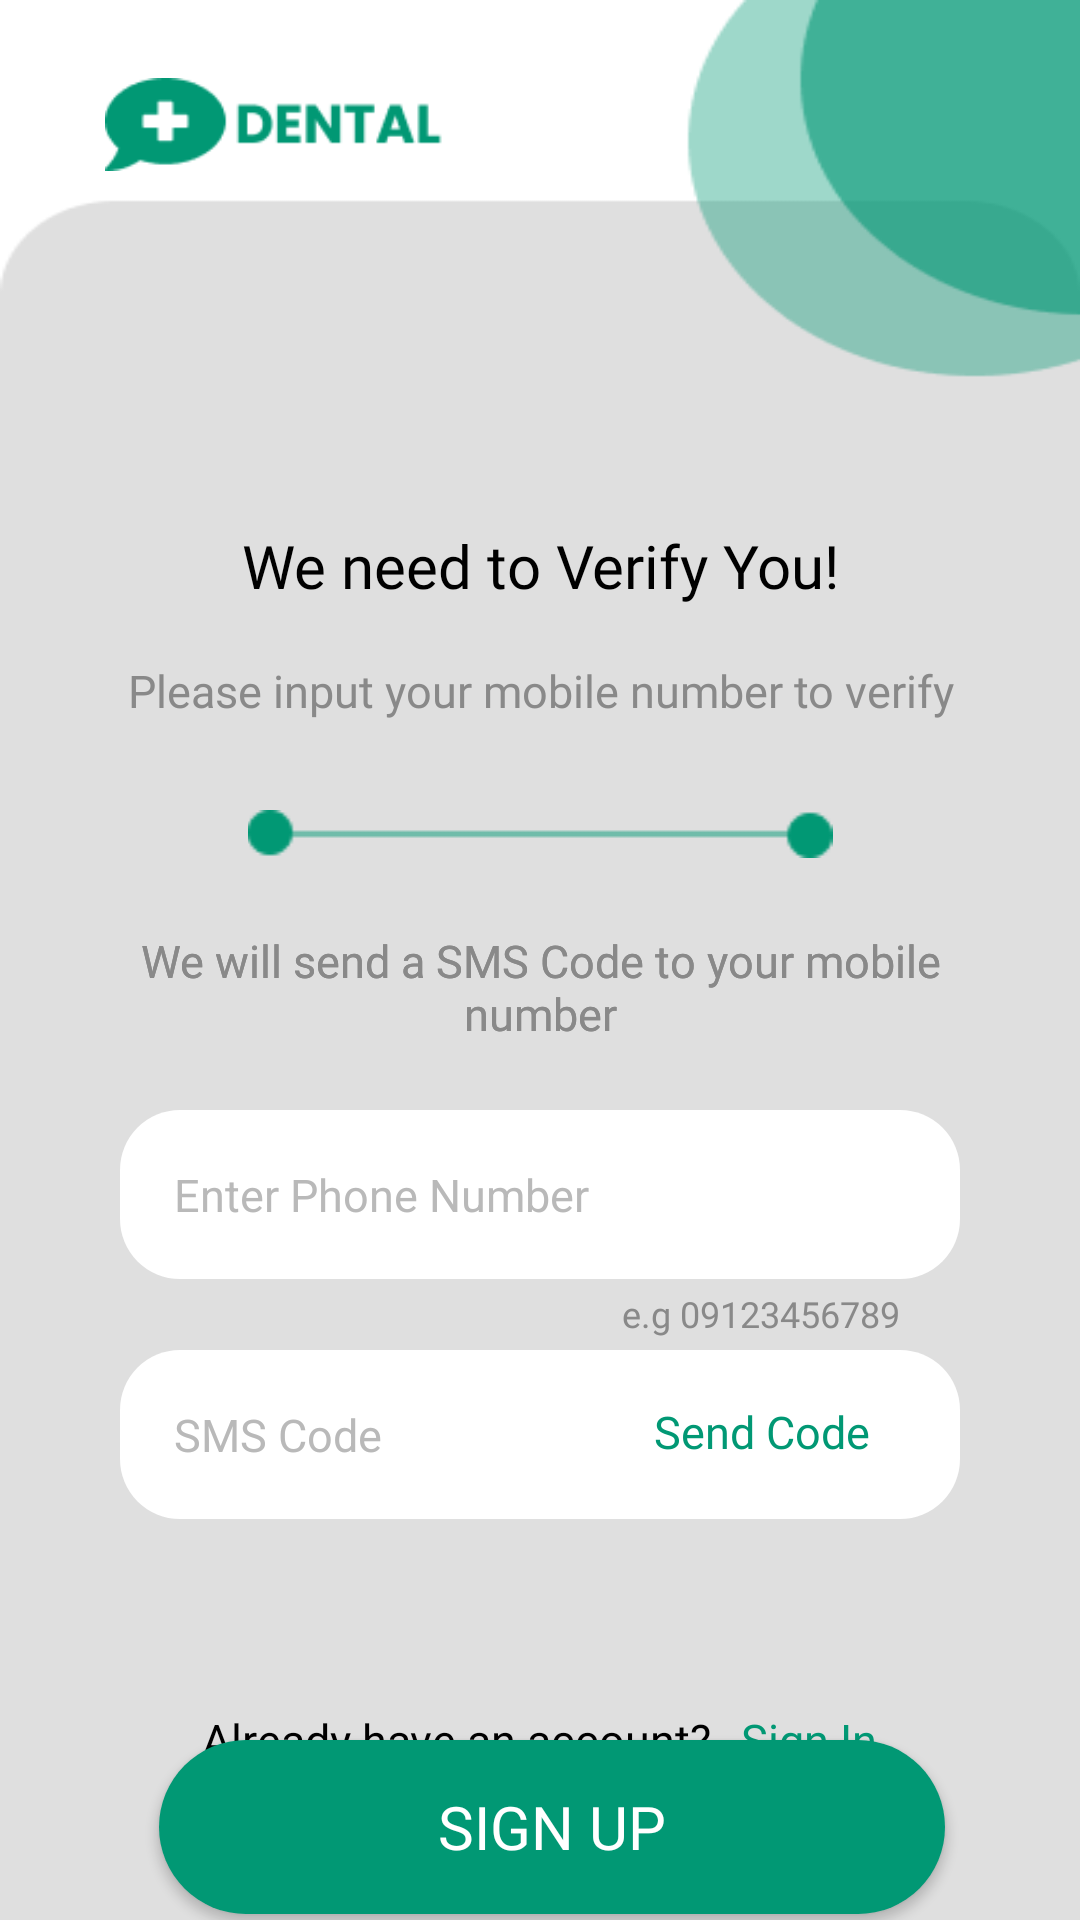

Where to tap for icons on this 1080 x 1920 app screen, as (x,y):
iconwithname: (273,124)
